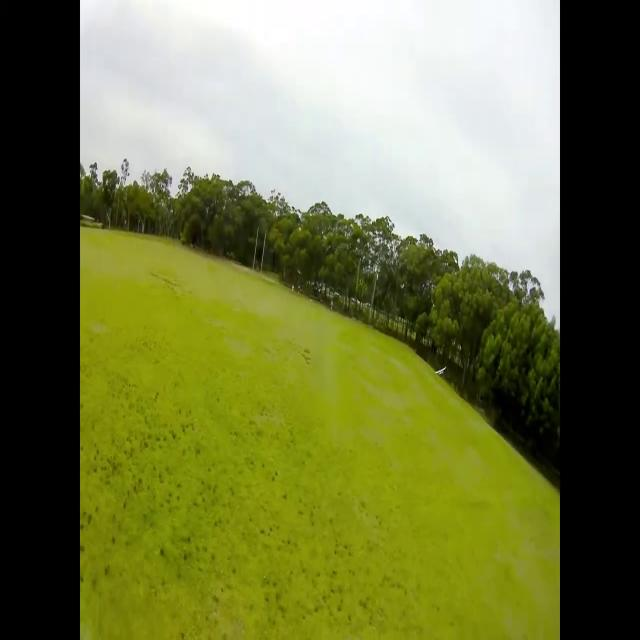iha: (438, 368, 443, 372)
